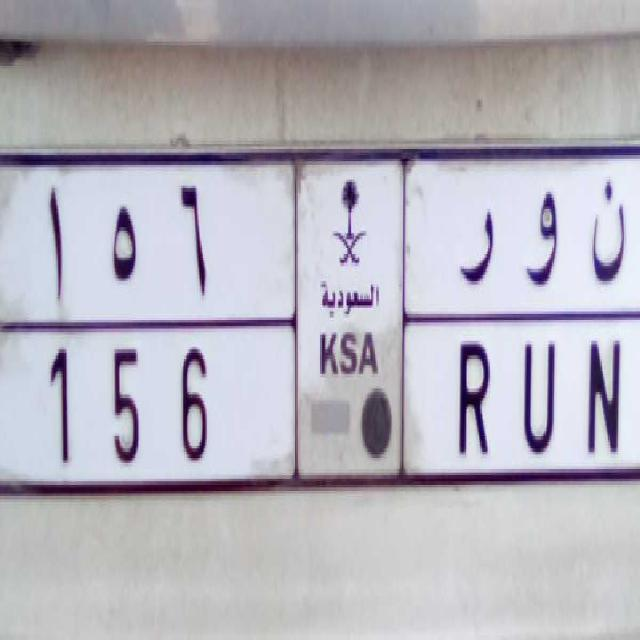license_plate: (20, 315, 633, 505)
